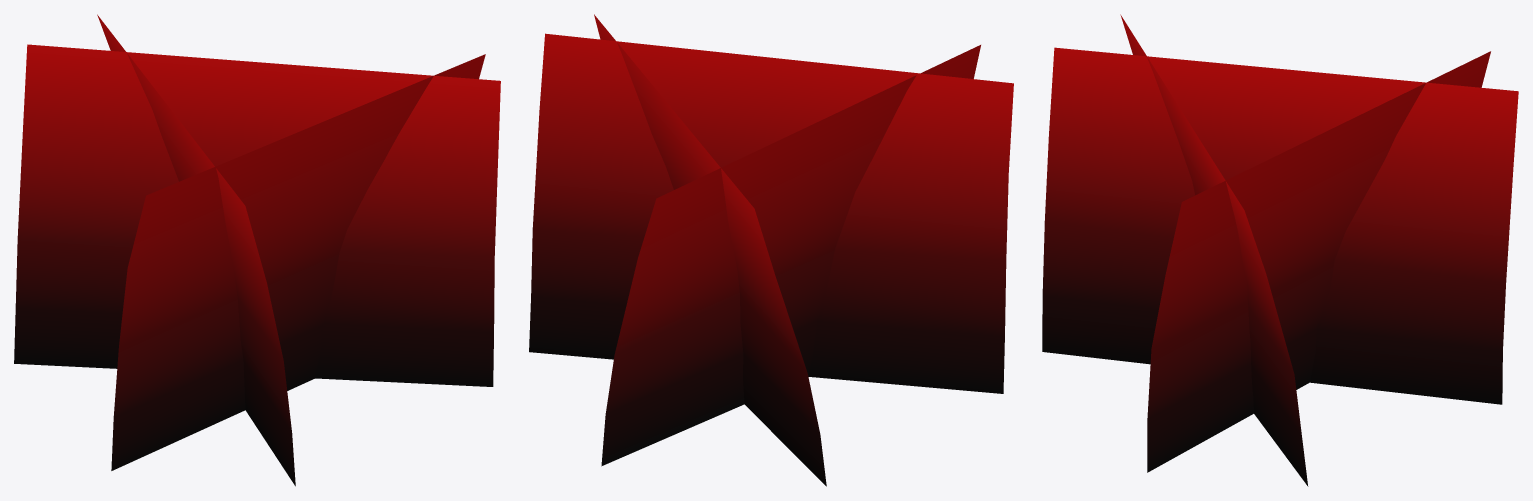
File: grass.fbx
3 views of the same model, side by side, from view 1: azimuth 30°, elevation 25°; view 2: azimuth 150°, elevation 25°; view 3: azimuth 270°, elevation 25° (orthographic). The views are drawn at different scales.
Parts seen in each view (by area): view 1: GrassSingle_LOD0; view 2: GrassSingle_LOD0; view 3: GrassSingle_LOD0.
Boxes of the visible parts, x1,y1,x2,y2 form: GrassSingle_LOD0: (14,14,500,486); GrassSingle_LOD0: (529,14,1013,486); GrassSingle_LOD0: (1042,14,1518,486).
Size of the model in its own units: 110 by 73.63 by 111.
